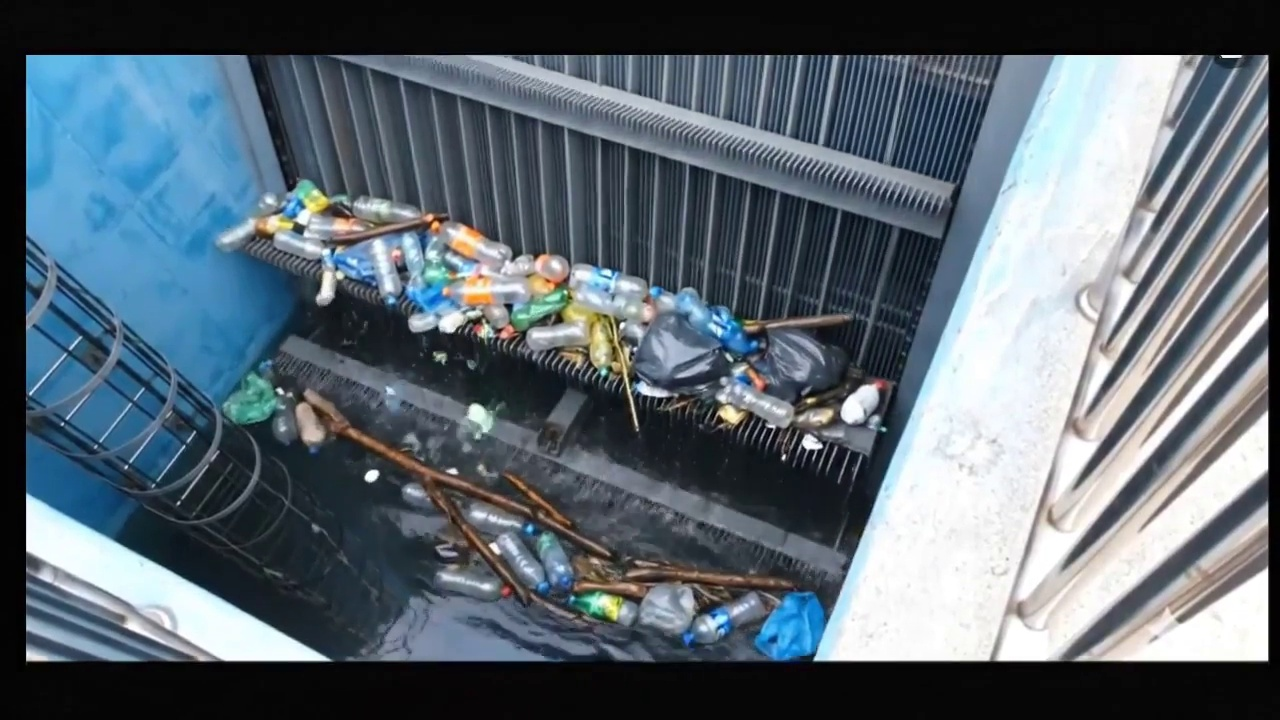debris: (198, 178, 898, 432)
